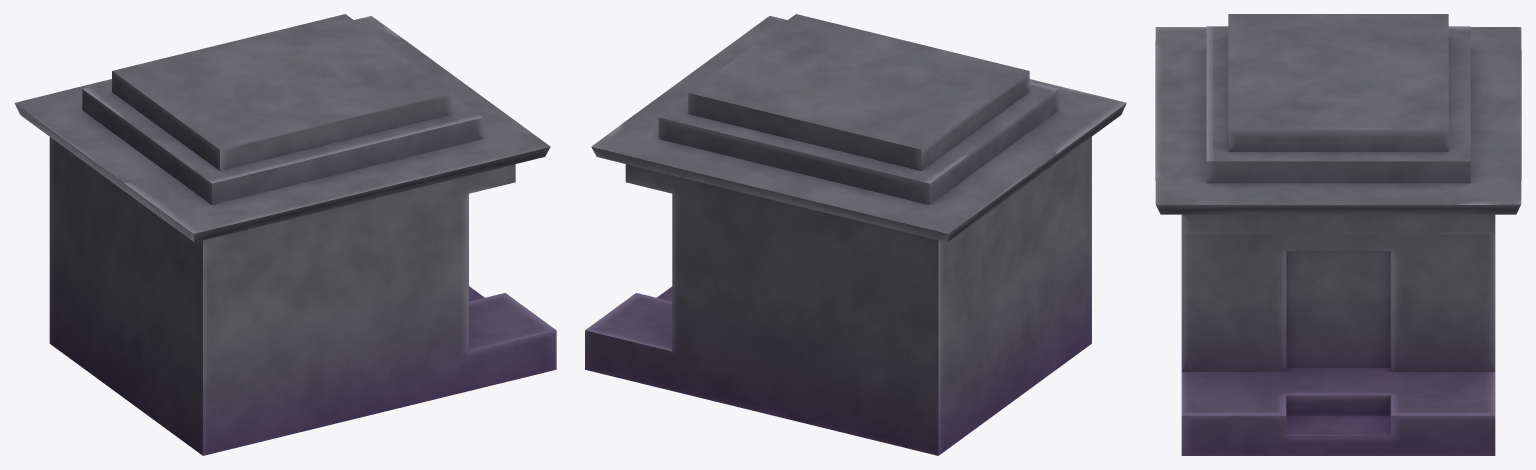
The model's file is Mausoleum.fbx.
The picture shows the model from 3 angles, left to right: view 1: azimuth 30°, elevation 25°; view 2: azimuth 150°, elevation 25°; view 3: azimuth 270°, elevation 25°; orthographic projection. The views are drawn at different scales.
Parts seen in each view (by area): view 1: Mausoleum1; view 2: Mausoleum1; view 3: Mausoleum1.
Part boxes in pixels (x1,y1,x2,y2): Mausoleum1: (14,14,556,455); Mausoleum1: (585,14,1126,455); Mausoleum1: (1155,14,1521,455).
Bounding box in the file's own units: 843 × 600 × 697.
